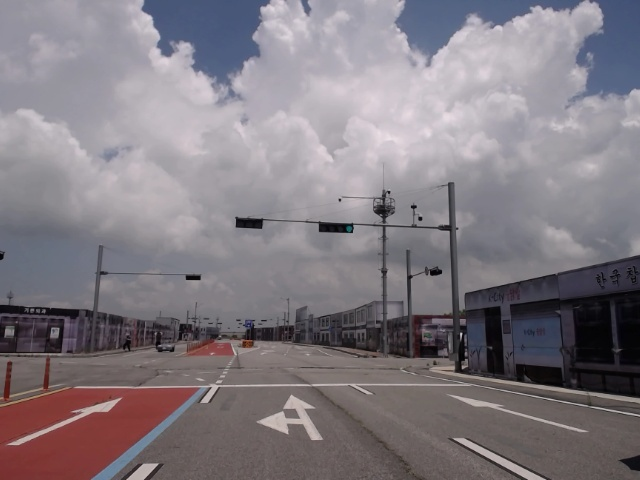straight_green_4: (319, 224, 353, 234)
